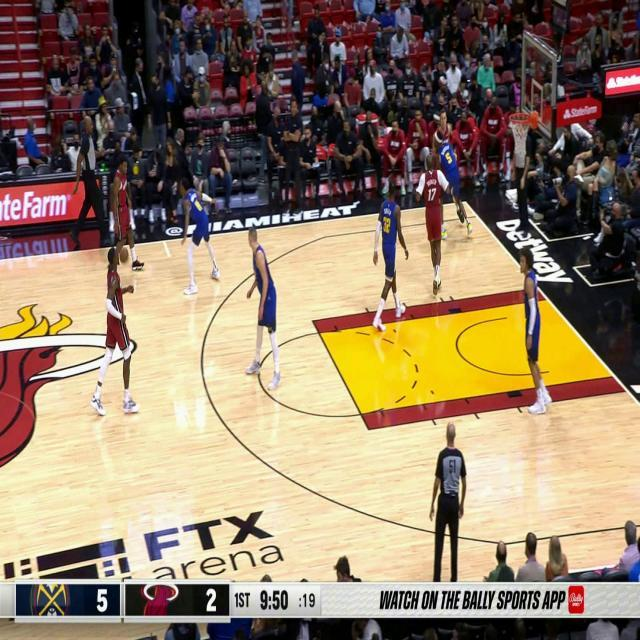rim: (119, 246, 129, 264)
